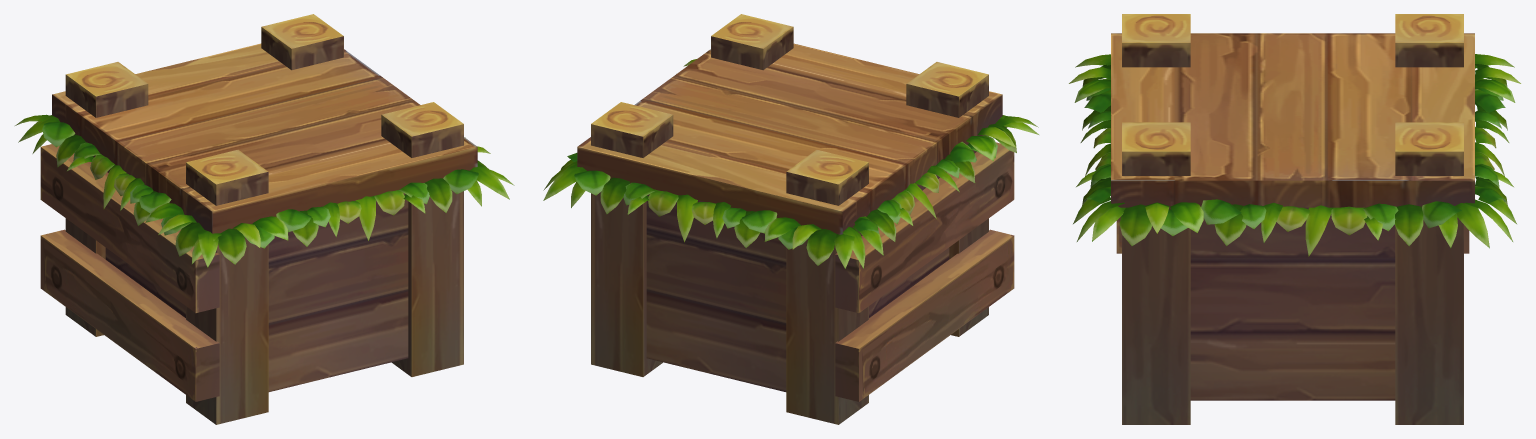
Rendered from scenes_common_hudongdaoju02.FBX.
3 renders of one model, left to right at view 1: azimuth 30°, elevation 25°; view 2: azimuth 150°, elevation 25°; view 3: azimuth 270°, elevation 25°, orthographic. The views are drawn at different scales.
Visible parts, largest first — view 1: scenes_common_hudongdaoju02; view 2: scenes_common_hudongdaoju02; view 3: scenes_common_hudongdaoju02.
Part boxes in pixels (x1,y1,x2,y2): scenes_common_hudongdaoju02: (15, 14, 514, 424); scenes_common_hudongdaoju02: (543, 14, 1038, 424); scenes_common_hudongdaoju02: (1069, 14, 1520, 424).
Bounding box in the file's own units: 150 × 103 × 156.
